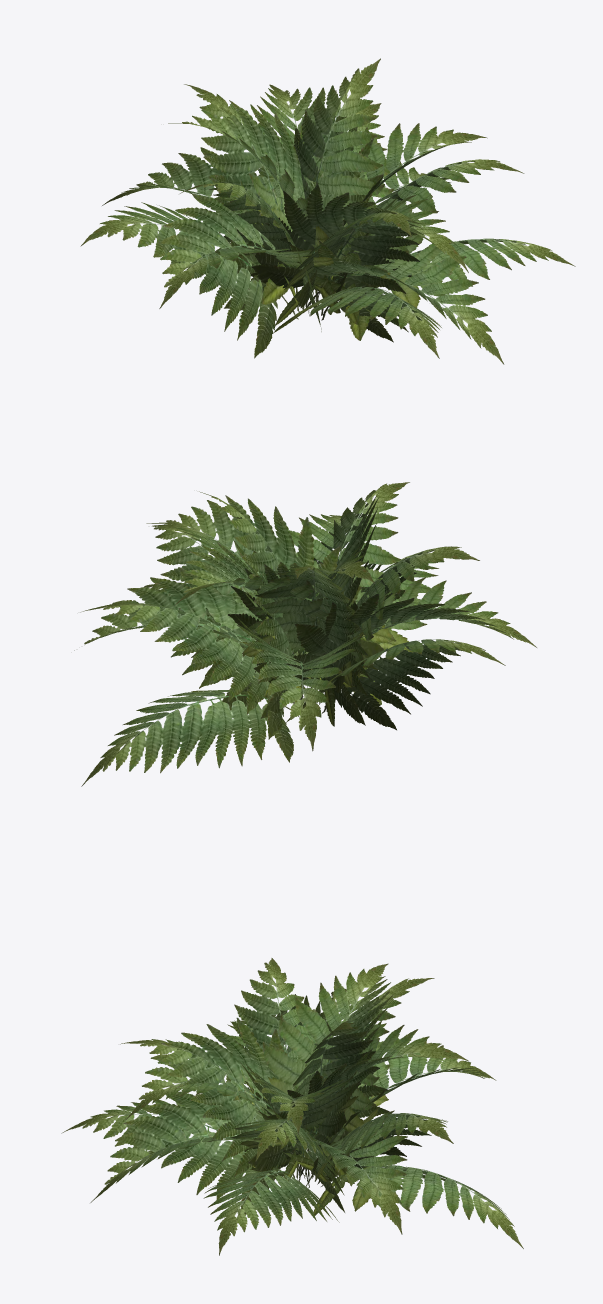
The model's file is fern-big.lod0.glb.
The picture shows the model from 3 angles, top to bottom: view 1: azimuth 30°, elevation 25°; view 2: azimuth 150°, elevation 25°; view 3: azimuth 270°, elevation 25°; orthographic projection. The views are drawn at different scales.
Visible parts, largest first — view 1: SM_MZRa_Fern_B051_MI_MZRa_Fern_B051_0; view 2: SM_MZRa_Fern_B051_MI_MZRa_Fern_B051_0; view 3: SM_MZRa_Fern_B051_MI_MZRa_Fern_B051_0.
Part boxes in pixels (<box>): SM_MZRa_Fern_B051_MI_MZRa_Fern_B051_0: <box>80,58,575,364</box>; SM_MZRa_Fern_B051_MI_MZRa_Fern_B051_0: <box>74,482,536,786</box>; SM_MZRa_Fern_B051_MI_MZRa_Fern_B051_0: <box>61,958,523,1255</box>.
Bounding box in the file's own units: 2.73 × 1.48 × 2.75.
1 material, 1 textured.
